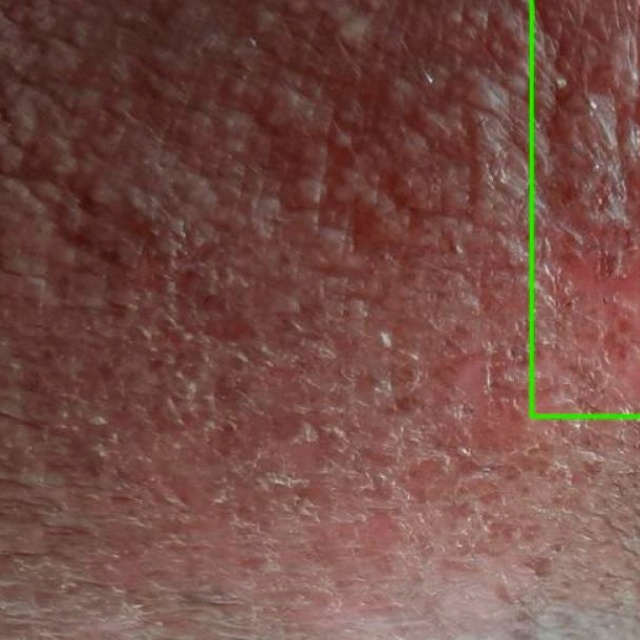Seborrheic Dermatitis: (530, 0, 639, 415)
